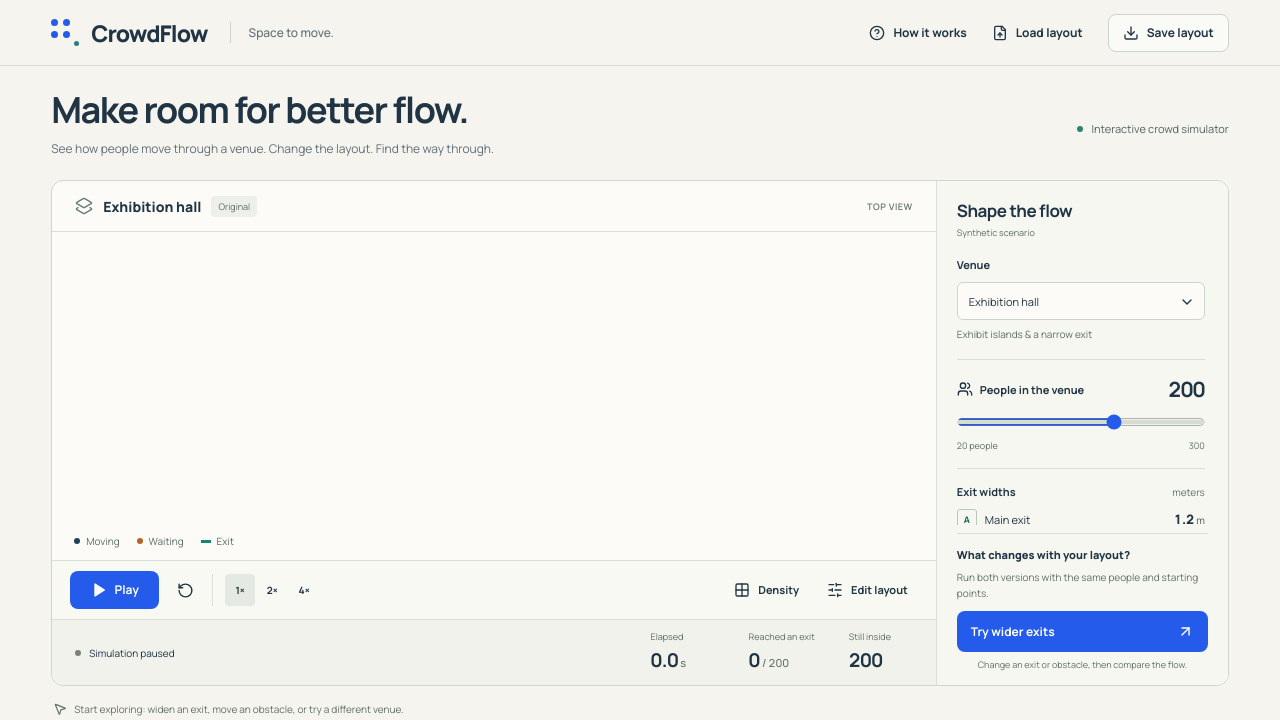
it: simulator controls › starts paused for reduced motion and exposes the core controls
Expected: the heading "Make room for better flow." is shown, top-left (51, 88), bottom-right (494, 132)
Click the button "Play": [115, 590] box top-left (70, 571), bottom-right (159, 609)
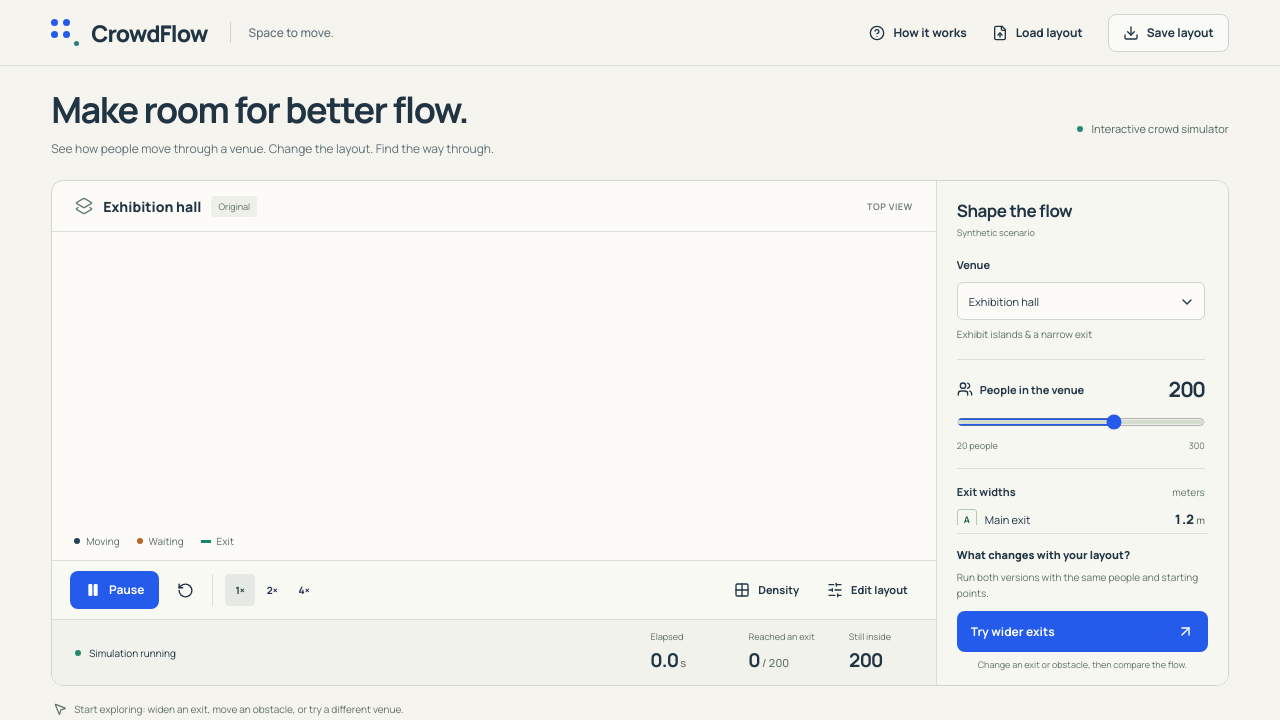
Expected: the button "Pause" is shown, top-left (70, 571), bottom-right (159, 609)
